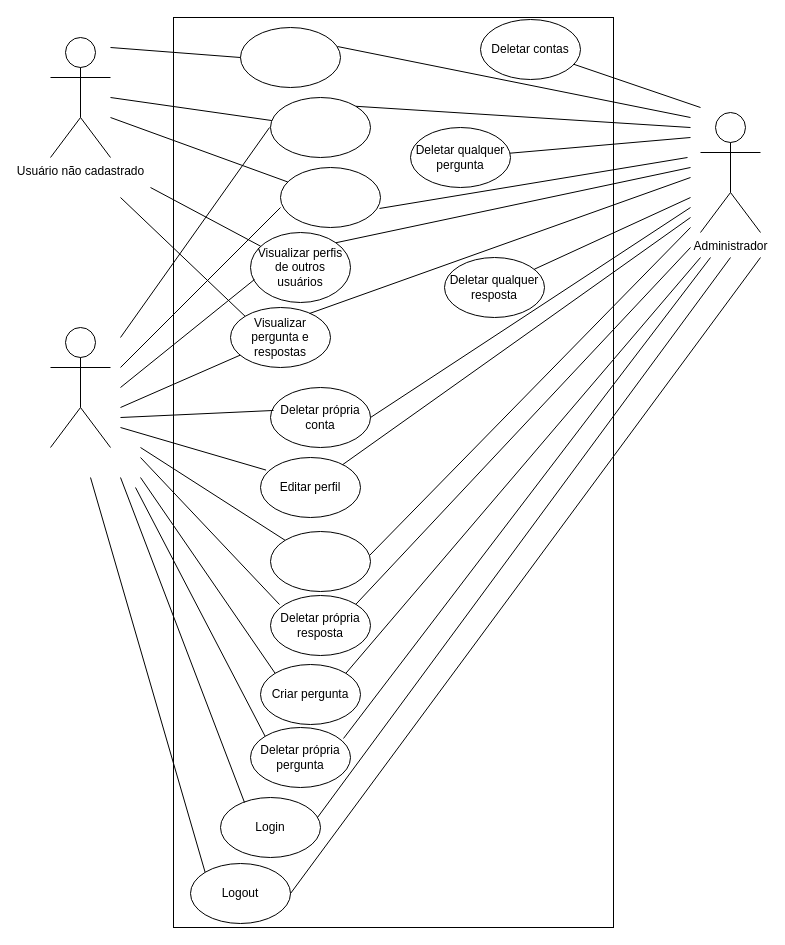
Image size: 785x945. Some labels were removed from this diagram. The shapes that lost their labels are listed below. From the top down, each one's centre as x and y in pixels, then its label:
At pixel 290 57: "Criar conta".
At pixel 320 127: "Ver lista de perguntas".
At pixel 330 197: "Abrir uma pergunta".
At pixel 80 387: "Usuário cadastrado".
At pixel 320 561: "Responder pergunta".
